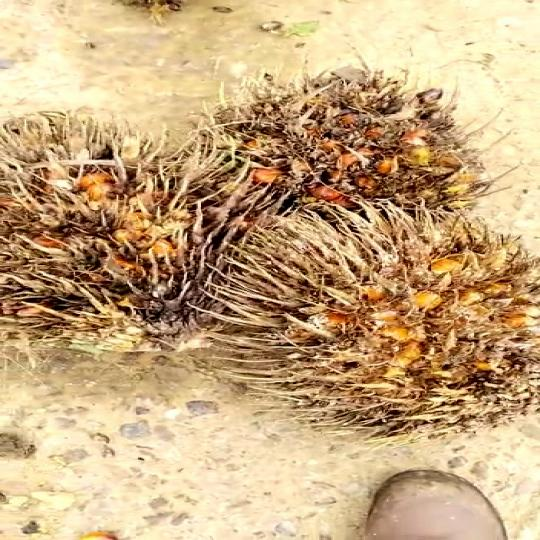terlalu masak: (213, 216, 540, 453), (0, 128, 294, 354), (178, 84, 484, 214)
